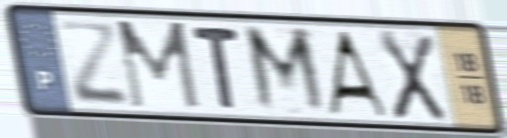A: (323, 28, 391, 120)
M: (240, 22, 333, 119), (113, 18, 204, 113)
T: (188, 23, 243, 113)
X: (375, 27, 449, 125)
Z: (55, 17, 132, 109)
